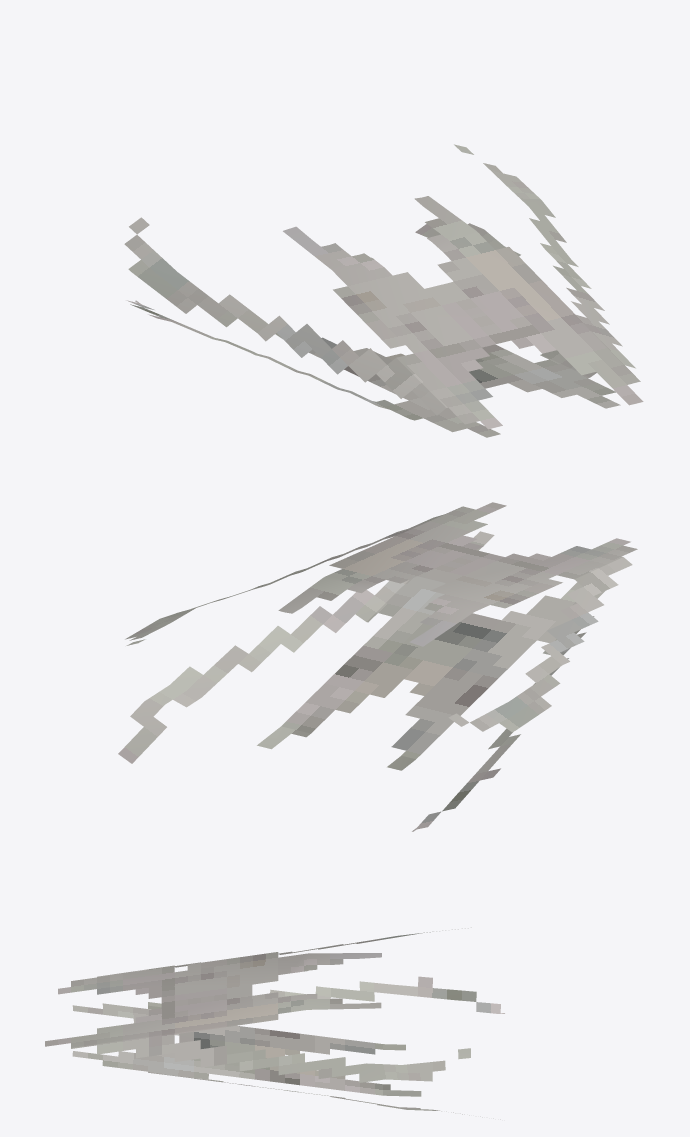
File: awing_body_l4.fbx
3 views of the same model, one above another, from view 1: azimuth 30°, elevation 25°; view 2: azimuth 150°, elevation 25°; view 3: azimuth 270°, elevation 25° (orthographic). The views are drawn at different scales.
Visible parts, largest first — view 1: mesh_node; view 2: mesh_node; view 3: mesh_node.
Part boxes in pixels (bbox=[...]): mesh_node: bbox=[124, 144, 643, 437]; mesh_node: bbox=[118, 502, 637, 831]; mesh_node: bbox=[45, 927, 504, 1119].
Bounding box in the file's own units: 8.24 × 2.85 × 11.64.
Materials: 1 (1 with a texture image).
